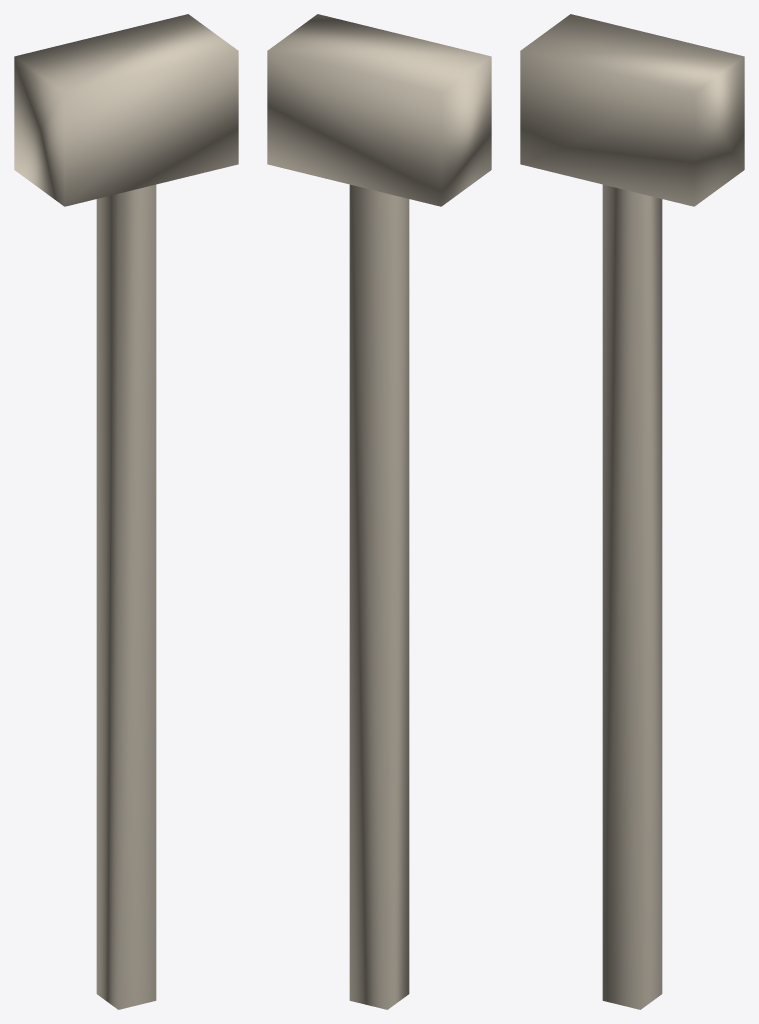
File: warhammer.glb
3 views of the same model, side by side, from view 1: azimuth 30°, elevation 25°; view 2: azimuth 150°, elevation 25°; view 3: azimuth 330°, elevation 25° (orthographic).
Visible parts, largest first — view 1: warhammer; view 2: warhammer; view 3: warhammer.
Boxes of the visible parts, box(x1,y1,x2,y2) form: warhammer: box(14, 14, 238, 1009); warhammer: box(267, 14, 491, 1009); warhammer: box(520, 14, 744, 1009).
Bounding box in the file's own units: 0.16 × 0.83 × 0.08.
